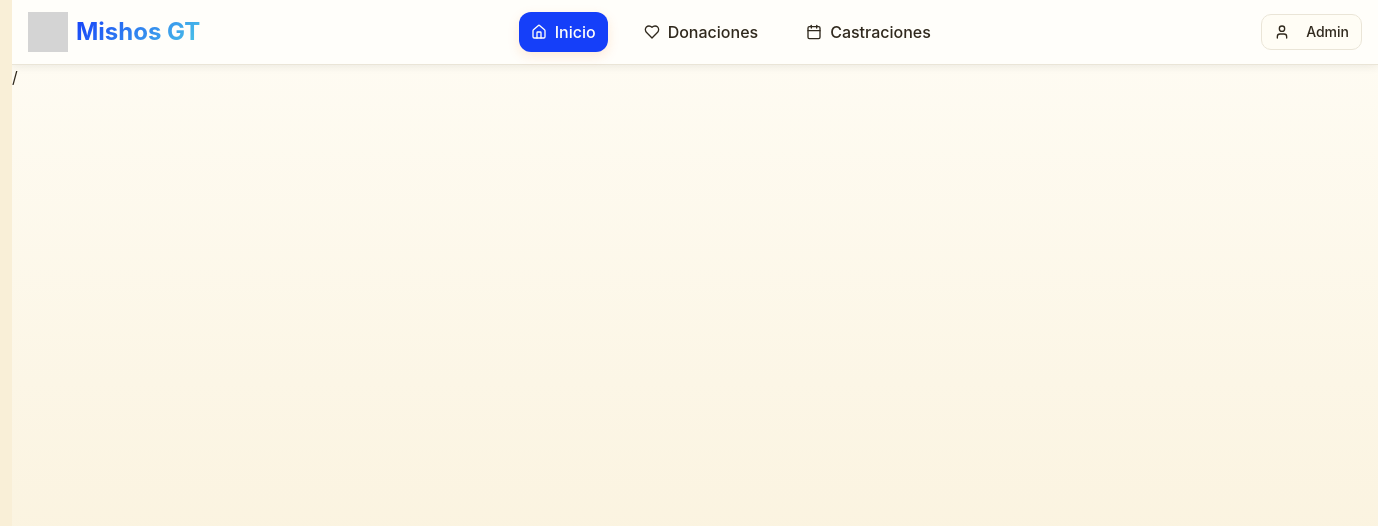
Test: Layout (integration) › navigates to /auth when clicking the Admin button
Click the link "Admin".
click(1312, 32)  # box left=1261, top=14, right=1362, bottom=50
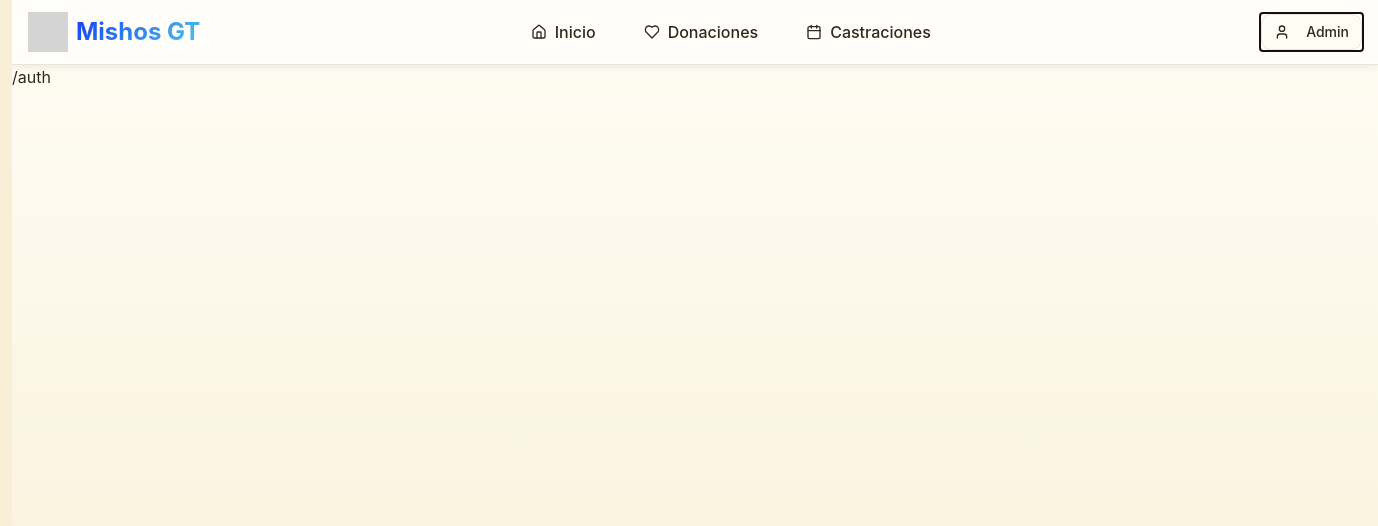
Result: the text with test id "pathname" reads "/auth" at left=12, top=67, right=51, bottom=87
